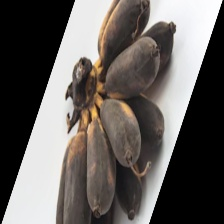banana: (31, 40, 212, 218)
